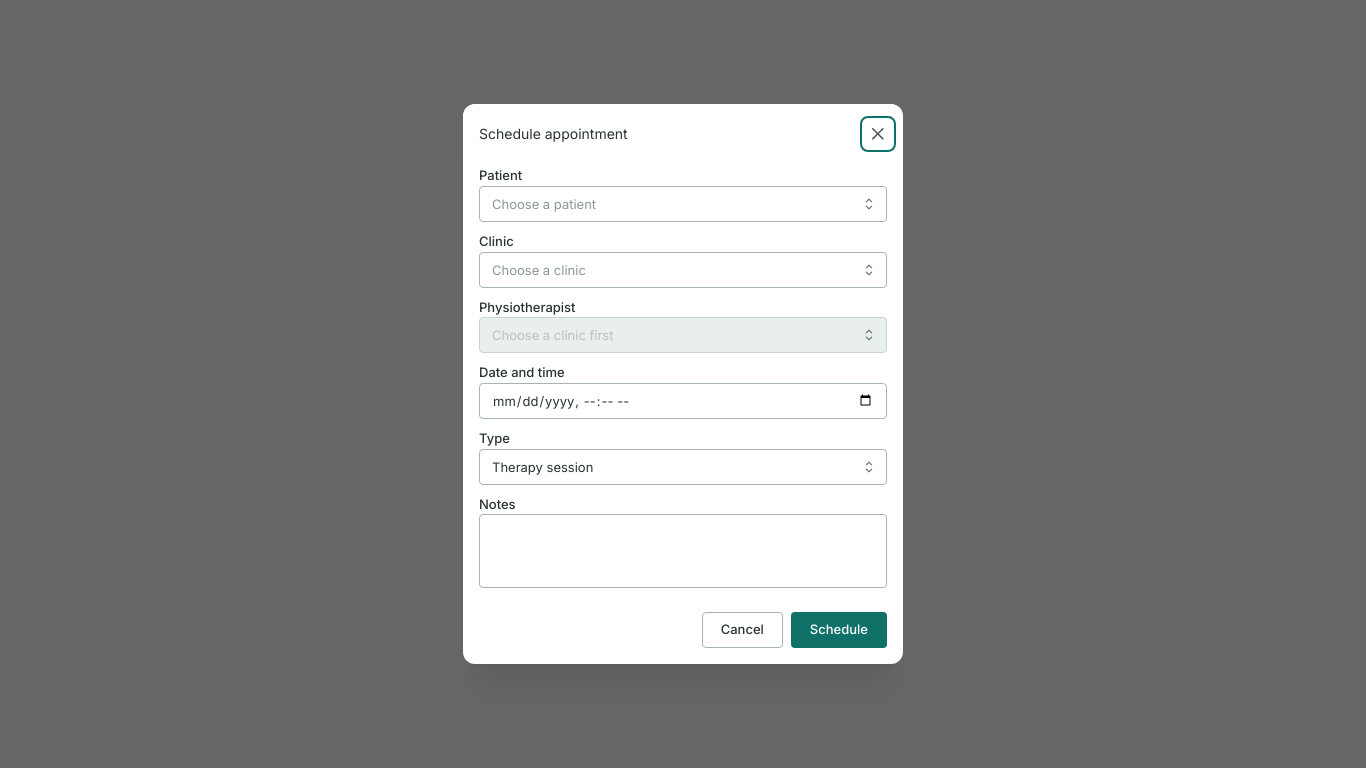
Scenario: AppointmentFormDialog › lists only the chosen clinic's physiotherapists once one is picked
Click the dropdown labelled "Clinic" at (683, 270), box [479,252,887,288]
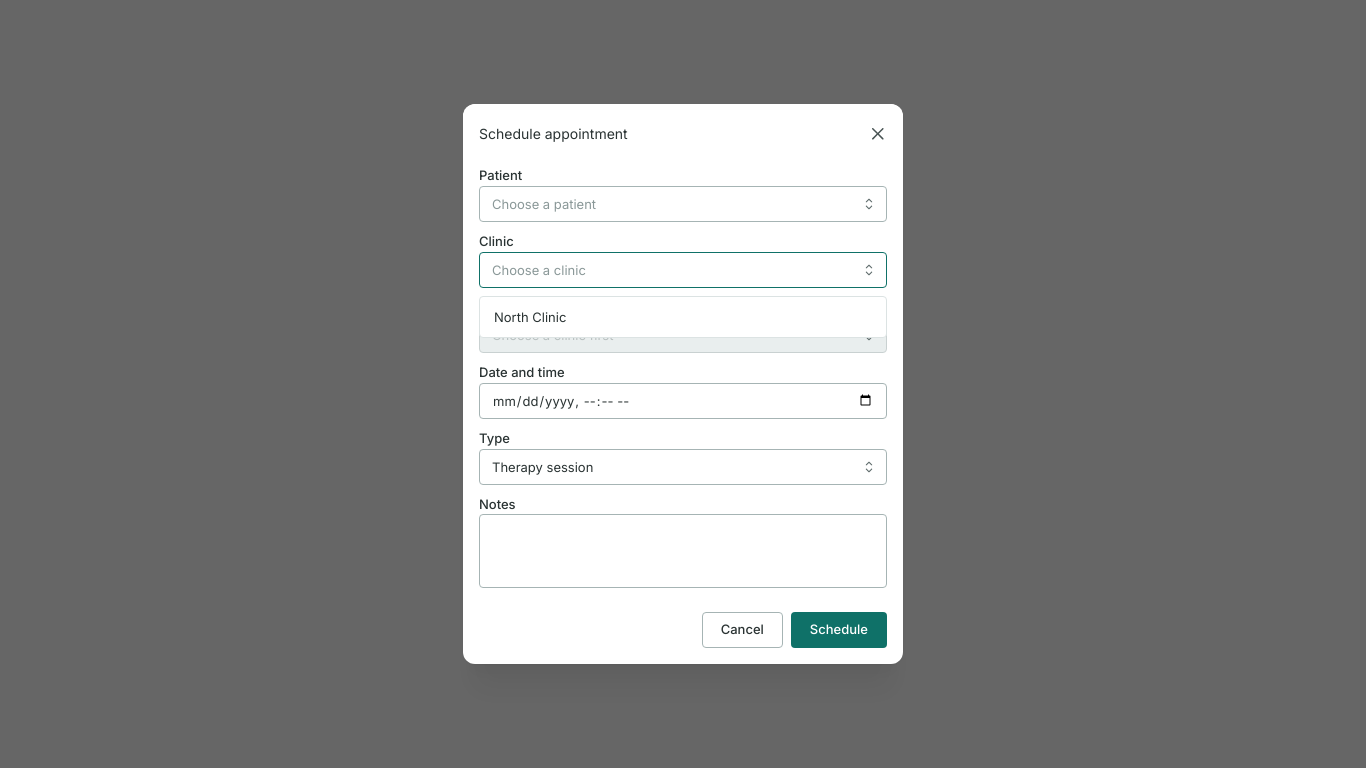
Click the option "North Clinic" at (530, 317), box [494,309,566,325]
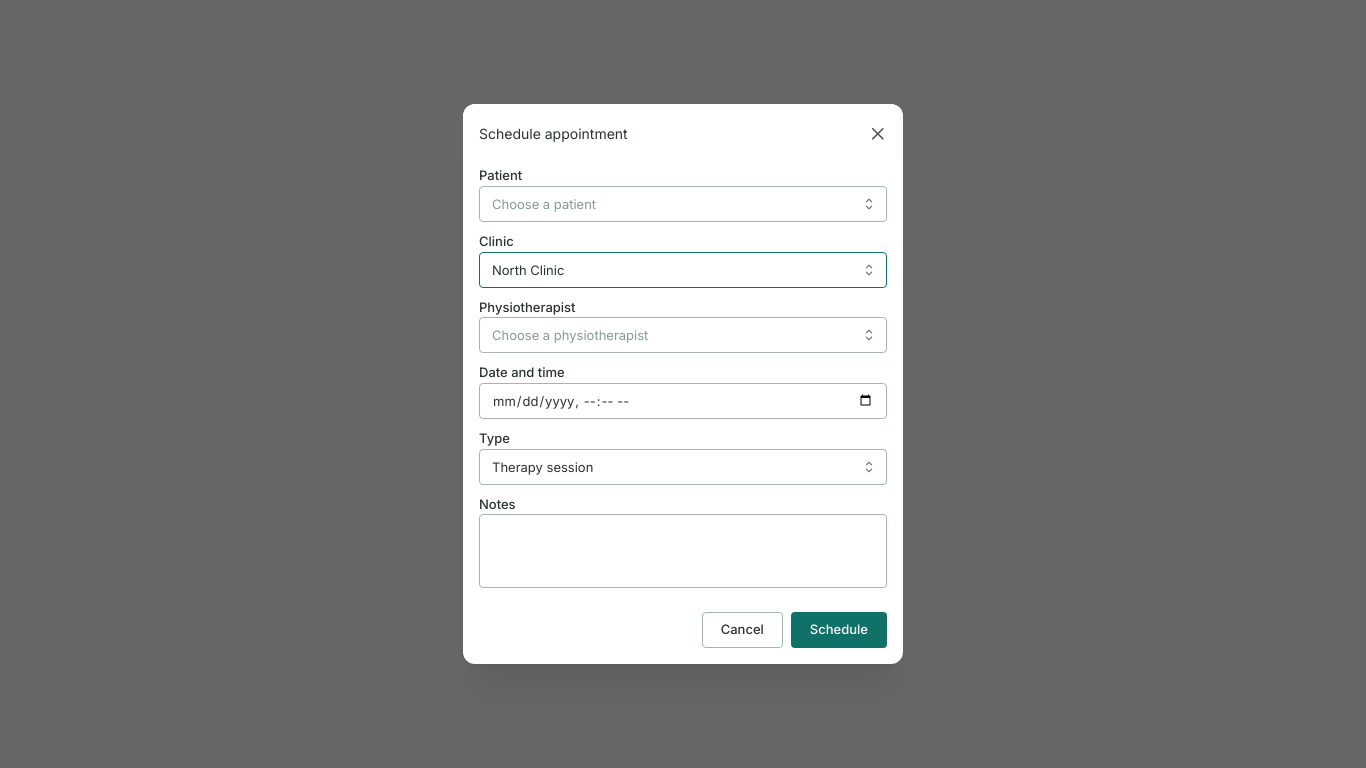
Click the dropdown labelled "Physiotherapist" at (683, 335), box [479,317,887,353]
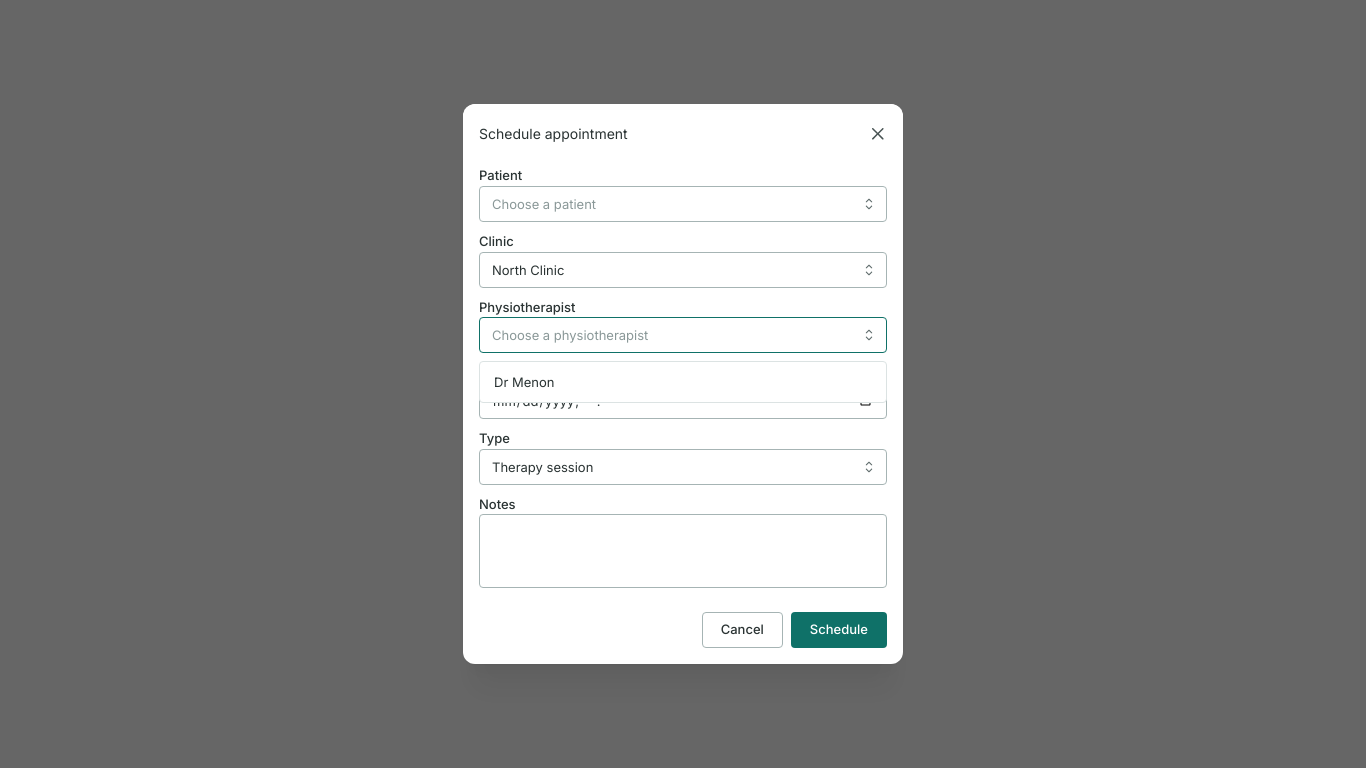
Check: the text "Dr Menon" is shown, box [494,372,554,392]
